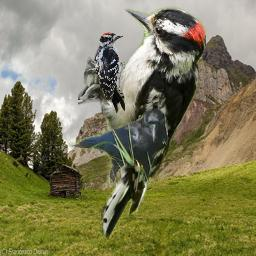Crow: (68, 108, 168, 187)
Woodpecker: (78, 3, 206, 239), (93, 32, 125, 113)
